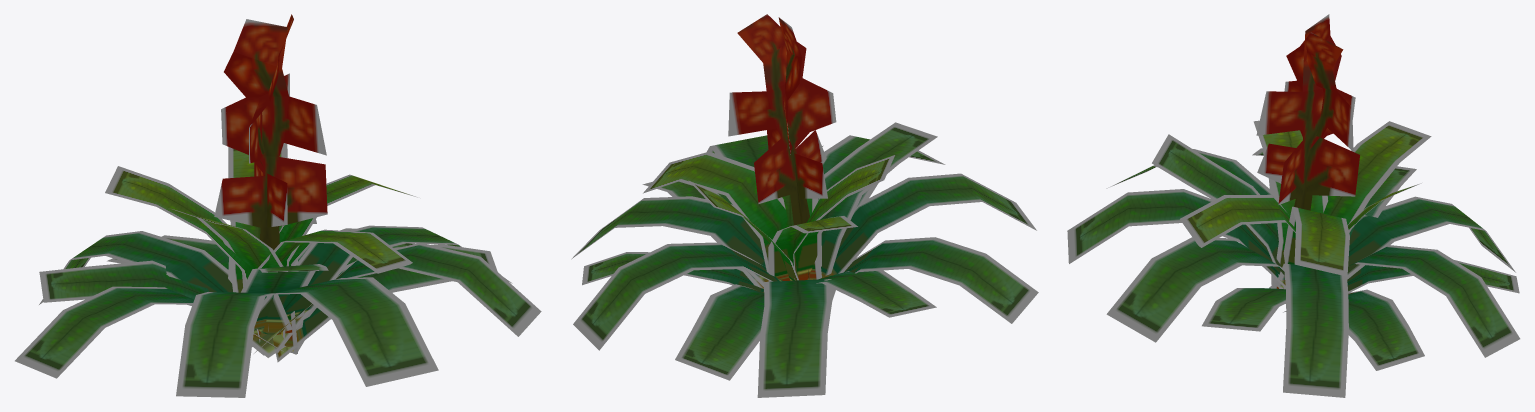
Rendered from Town_Flowers.glb.
The picture shows the model from 3 angles, left to right: view 1: azimuth 30°, elevation 25°; view 2: azimuth 150°, elevation 25°; view 3: azimuth 270°, elevation 25°; orthographic projection. The views are drawn at different scales.
Visible parts, largest first — view 1: Object_32.001; view 2: Object_32.001; view 3: Object_32.001.
Part boxes in pixels (left/top/right/bottom): Object_32.001: left=15, top=14, right=541, bottom=397; Object_32.001: left=571, top=14, right=1038, bottom=397; Object_32.001: left=1067, top=14, right=1520, bottom=397.
Size of the model in its own units: 13 by 8.35 by 11.86.
